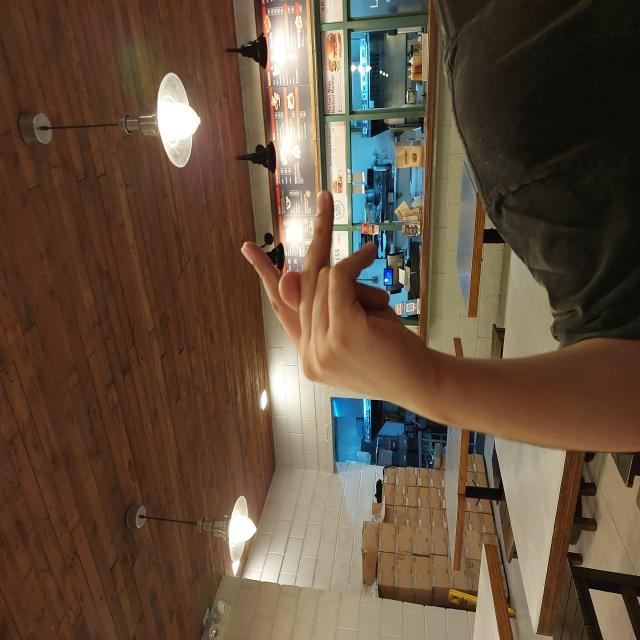K: (236, 238, 452, 442)
